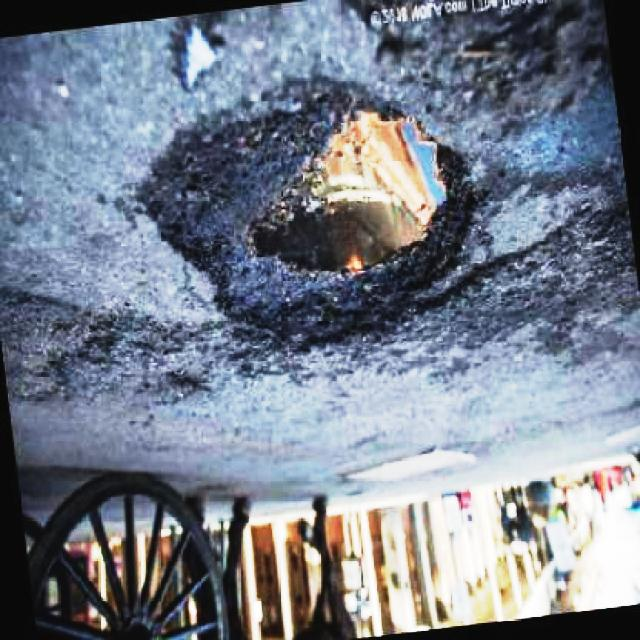pothole: (138, 72, 477, 345)
